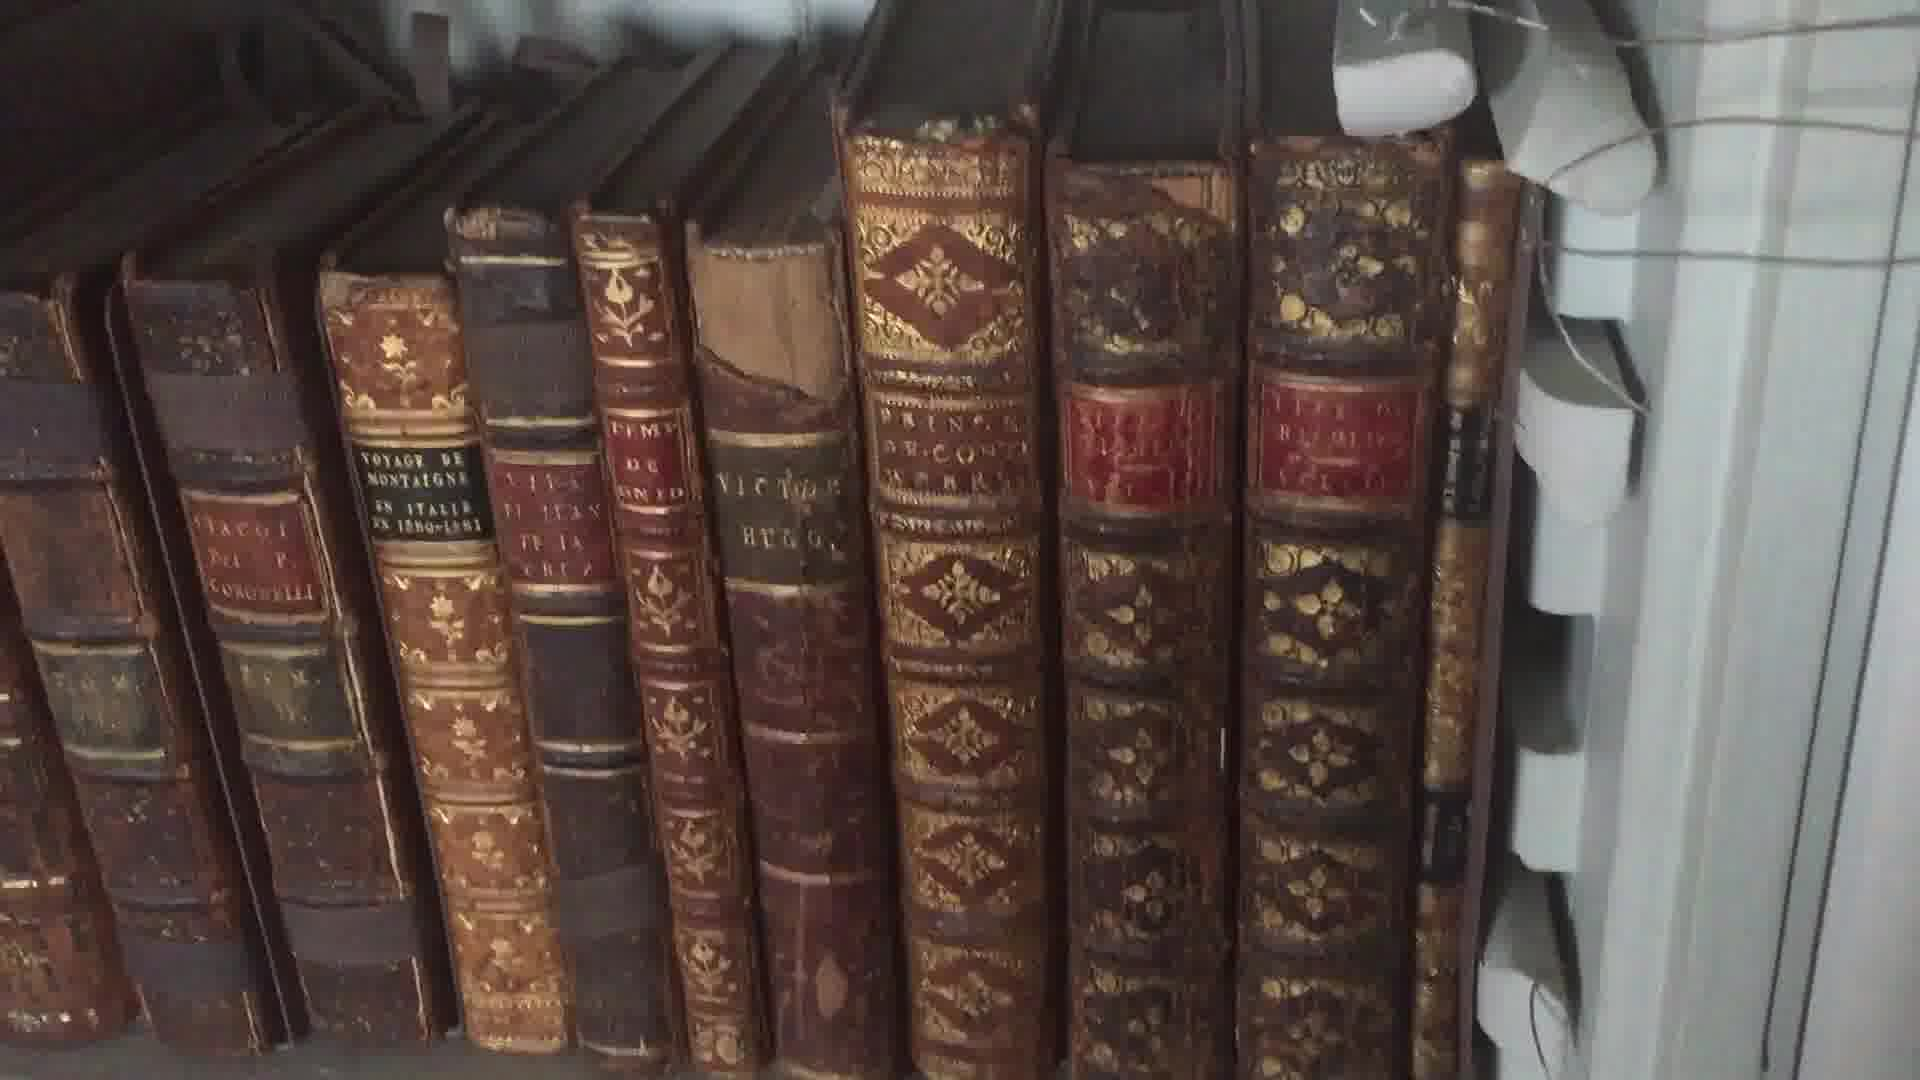Aa6-39_40: (21, 227, 451, 1075)
Aa6-41: (291, 239, 580, 1080)
Aa6-42: (419, 202, 688, 1080)
Aa6-43: (563, 208, 785, 1080)
Aa6-44: (659, 204, 918, 1080)
Aa6-45: (829, 107, 1046, 1080)
Aa6-46-47: (1038, 156, 1403, 1080)
Aa6-48: (1429, 161, 1524, 1073)
